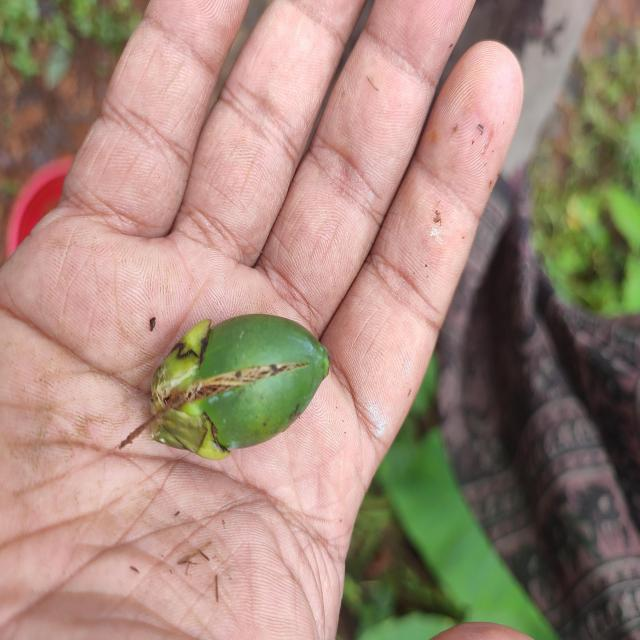damaged: (149, 314, 330, 463)
